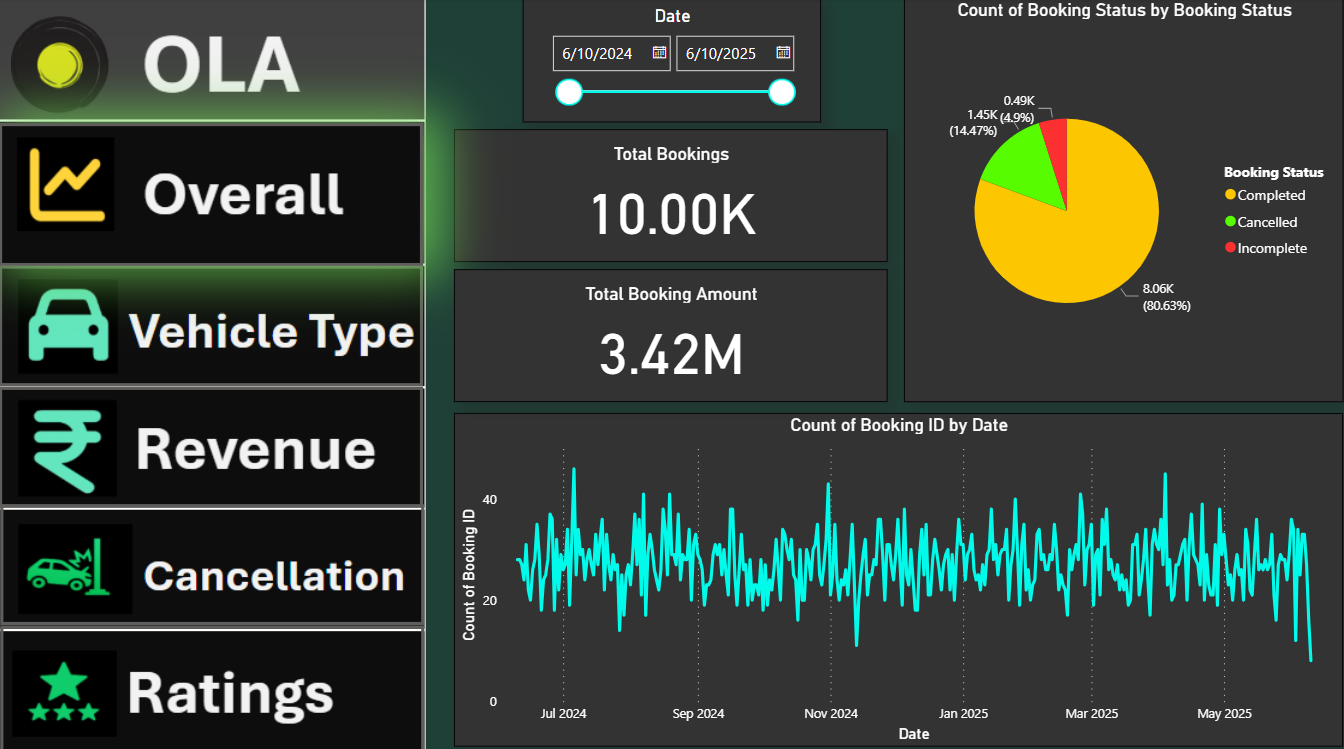

What the dashboard file says about the page in this screenshot:
{"tool":"powerbi","page":{"name":"Overall","canvas":[1280,720],"ordinal":0},"visuals":[{"type":"slicer","title":"Date","fields":{"Values":["ola_booking_data.Date"]},"box":[498.8,0,283.8,118.8],"z":0},{"type":"card","title":"Total Bookings","fields":{"Values":["CountNonNull(ola_booking_data.Booking ID)"]},"box":[433.8,125,412.5,126.2],"z":1000},{"type":"pieChart","fields":{"Category":["ola_booking_data.Booking Status"],"Y":["CountNonNull(ola_booking_data.Booking Status)"]},"box":[861.2,0,418.8,385],"z":2000},{"type":"lineChart","fields":{"Category":["ola_booking_data.Date"],"Y":["CountNonNull(ola_booking_data.Booking ID)"]},"box":[433.8,395,846.2,317.5],"z":3000},{"type":"actionButton","box":[0,255,403.8,115],"z":4000},{"type":"actionButton","box":[0,118.8,403.8,136.2],"z":5000},{"type":"actionButton","box":[0,370,403.8,115],"z":6000},{"type":"actionButton","box":[1.2,482.5,403.8,115],"z":7000},{"type":"actionButton","box":[1.2,597.5,403.8,122.5],"z":8000},{"type":"card","title":"Total Booking Amount","fields":{"Values":["Sum(ola_booking_data.Booking Amount)"]},"box":[433.8,258.8,412.5,126.2],"z":9000}]}

Visuals, with their boxes in screenshot pixels (x1, y1, x2, y2), scaled from the page's 1280x720 canvas onto the 1344x749 screenshot:
"Date" slicer: Rect(524, 0, 822, 124)
"Total Bookings" card: Rect(455, 130, 889, 261)
pieChart - ola_booking_data.Booking Status x CountNonNull(ola_booking_data.Booking Status): Rect(904, 0, 1343, 401)
lineChart - ola_booking_data.Date x CountNonNull(ola_booking_data.Booking ID): Rect(455, 411, 1343, 741)
actionButton: Rect(0, 265, 424, 385)
actionButton: Rect(0, 124, 424, 265)
actionButton: Rect(0, 385, 424, 505)
actionButton: Rect(1, 502, 425, 622)
actionButton: Rect(1, 622, 425, 748)
"Total Booking Amount" card: Rect(455, 269, 889, 401)
